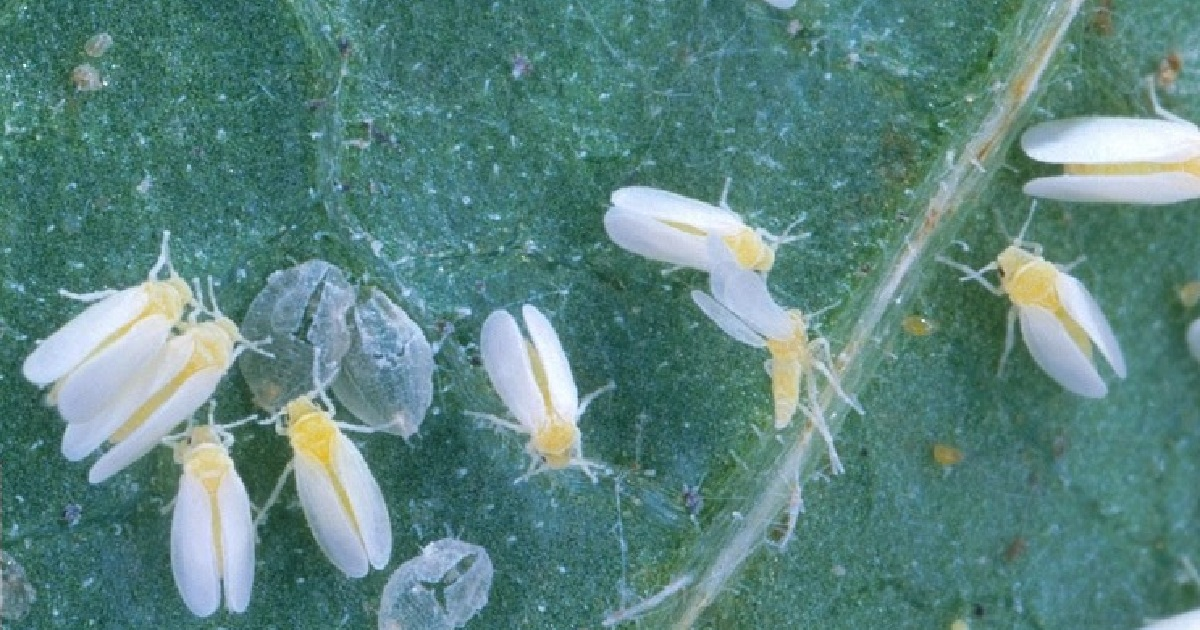Tobacco Whitefly: (53, 255, 259, 438), (457, 287, 651, 478), (971, 83, 1200, 222), (959, 233, 1147, 401), (159, 438, 329, 615), (280, 384, 404, 571), (586, 176, 782, 283)
